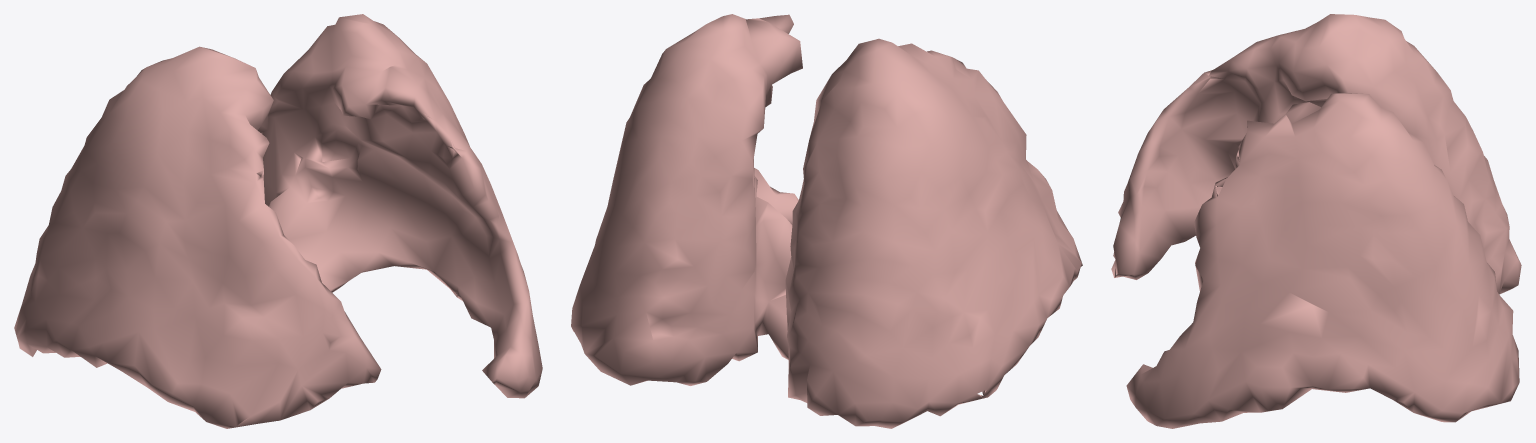
The model's file is fetus.respiratory.LOD3.glb.
The picture shows the model from 3 angles, left to right: view 1: azimuth 30°, elevation 25°; view 2: azimuth 150°, elevation 25°; view 3: azimuth 270°, elevation 25°; orthographic projection. The views are drawn at different scales.
Parts seen in each view (by area): view 1: FETUS.RESPIRATORY.LUNG.R, FETUS.RESPIRATORY.LUNG.L; view 2: FETUS.RESPIRATORY.LUNG.R, FETUS.RESPIRATORY.LUNG.L; view 3: FETUS.RESPIRATORY.LUNG.L, FETUS.RESPIRATORY.LUNG.R.
Boxes of the visible parts, bbox=[...] form: FETUS.RESPIRATORY.LUNG.R: bbox=[14, 46, 381, 428]; FETUS.RESPIRATORY.LUNG.L: bbox=[261, 14, 542, 398]; FETUS.RESPIRATORY.LUNG.R: bbox=[785, 38, 1082, 428]; FETUS.RESPIRATORY.LUNG.L: bbox=[571, 14, 802, 385]; FETUS.RESPIRATORY.LUNG.L: bbox=[1126, 93, 1519, 428]; FETUS.RESPIRATORY.LUNG.R: bbox=[1111, 14, 1521, 294].
Bounding box in the file's own units: 0.0624 × 0.045 × 0.0545.
